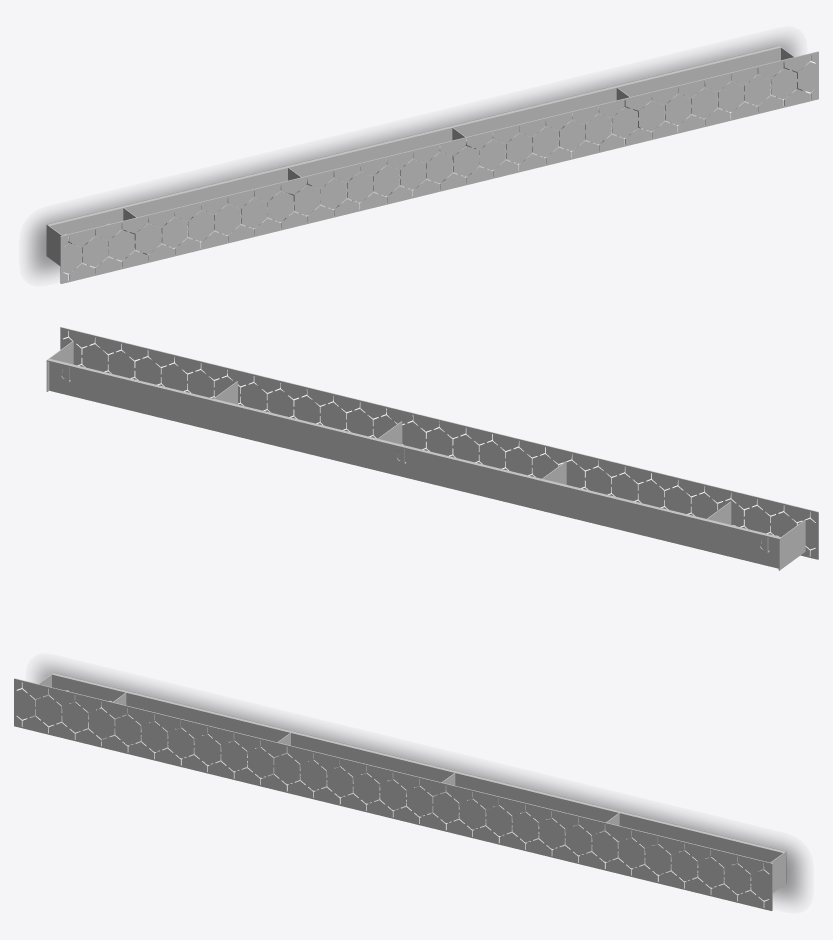
File: bee-patron.4ed14e77e7.ar.glb
3 renders of one model, top to bottom at view 1: azimuth 30°, elevation 25°; view 2: azimuth 150°, elevation 25°; view 3: azimuth 330°, elevation 25°, orthographic.
Visible parts, largest first — view 1: NAUO1, object 2; view 2: NAUO1; view 3: NAUO1, object 2.
Boxes of the visible parts, x1=… form: NAUO1: x1=46, y1=45, x2=818, y2=283; object 2: x1=29, y1=38, x2=797, y2=274; NAUO1: x1=46, y1=327, x2=818, y2=570; NAUO1: x1=14, y1=672, x2=786, y2=910; object 2: x1=35, y1=665, x2=803, y2=901.
Size of the model in its own units: 1.58 by 0.17 by 0.092.
2 materials, 1 textured.
